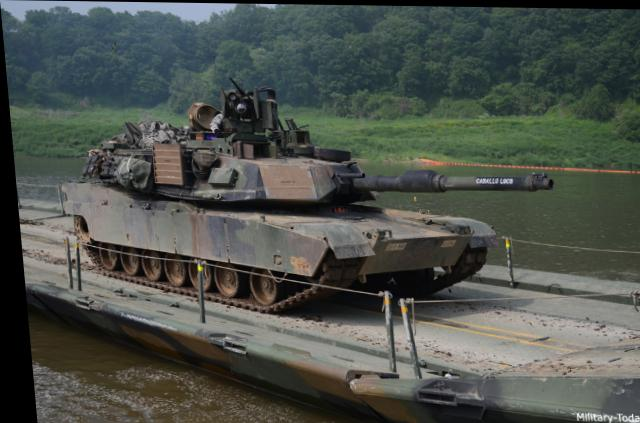tank: (42, 84, 492, 319)
